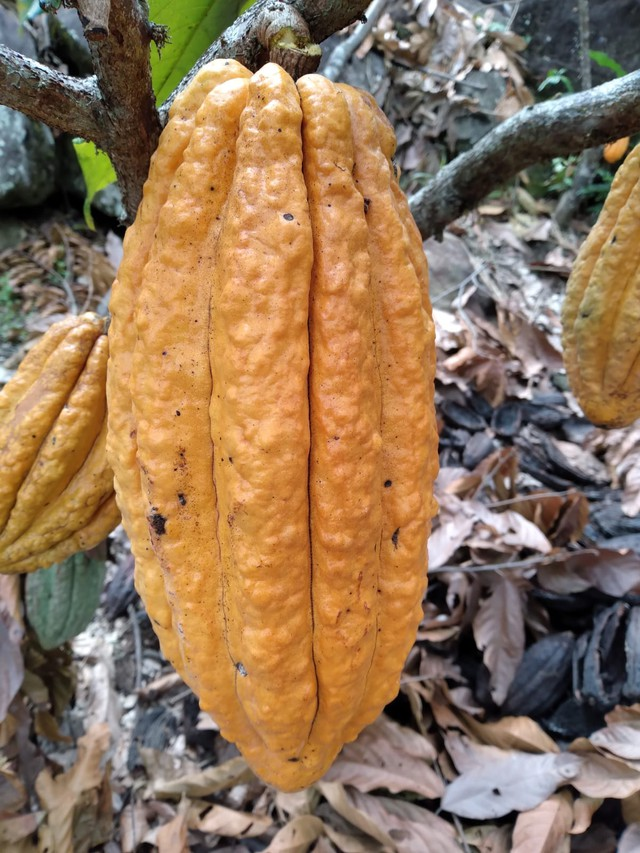Health: (97, 52, 446, 801)
